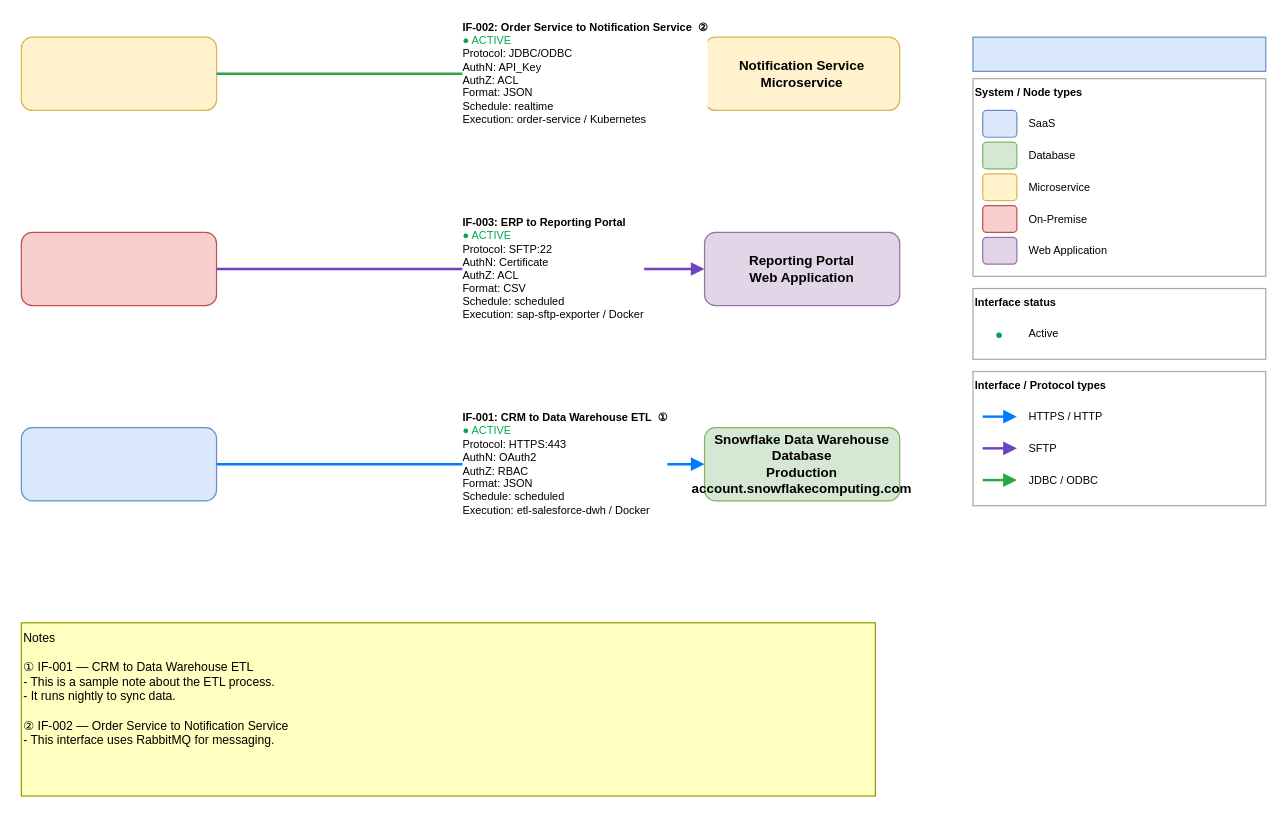
Image size: 1287x817. Some labels were removed from this diagram. Here are the shapes that lost their labels. From the top down, the centre of each, then its label:
the point at 118,73: Order Service Microservice
the point at 1119,53: LEGEND
the point at 118,268: SAP ERP On-Premise Production sap-erp.company.local
the point at 118,463: Salesforce CRM SaaS
